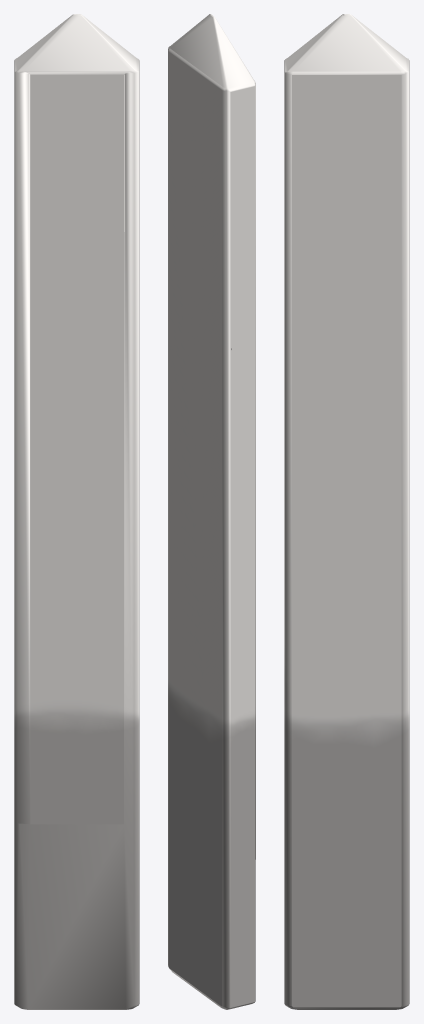
File: Fence_One_02.fbx
3 views of the same model, side by side, from view 1: azimuth 90°, elevation 25°; view 2: azimuth 210°, elevation 25°; view 3: azimuth 270°, elevation 25° (orthographic).
Parts seen in each view (by area): view 1: Fence_One_02; view 2: Fence_One_02; view 3: Fence_One_02.
Boxes of the visible parts, <box> form: Fence_One_02: <box>14,14,139,1009</box>; Fence_One_02: <box>168,14,255,1009</box>; Fence_One_02: <box>284,14,409,1009</box>.
Size of the model in its own units: 6.54 by 182 by 20.89.
